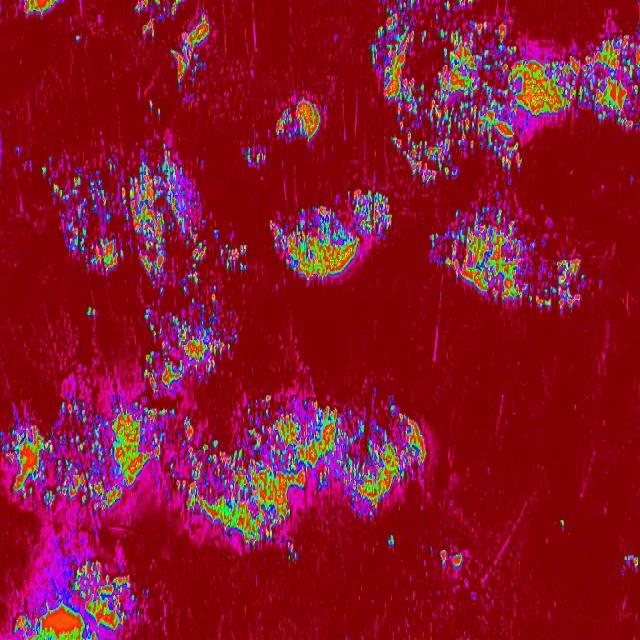fire: (168, 393, 427, 546), (372, 0, 528, 188), (42, 144, 215, 295), (0, 394, 166, 518), (426, 196, 586, 312), (267, 188, 394, 288), (528, 28, 640, 133), (13, 557, 135, 640), (142, 296, 238, 393), (134, 0, 212, 90), (275, 95, 323, 144), (216, 228, 247, 274), (437, 548, 462, 572), (19, 0, 60, 14), (240, 144, 268, 164), (624, 552, 640, 568), (85, 304, 98, 318), (286, 548, 298, 562), (559, 517, 568, 528), (14, 146, 22, 158), (154, 107, 163, 117), (75, 35, 83, 44), (148, 98, 152, 110), (145, 587, 149, 595), (137, 611, 142, 617)
